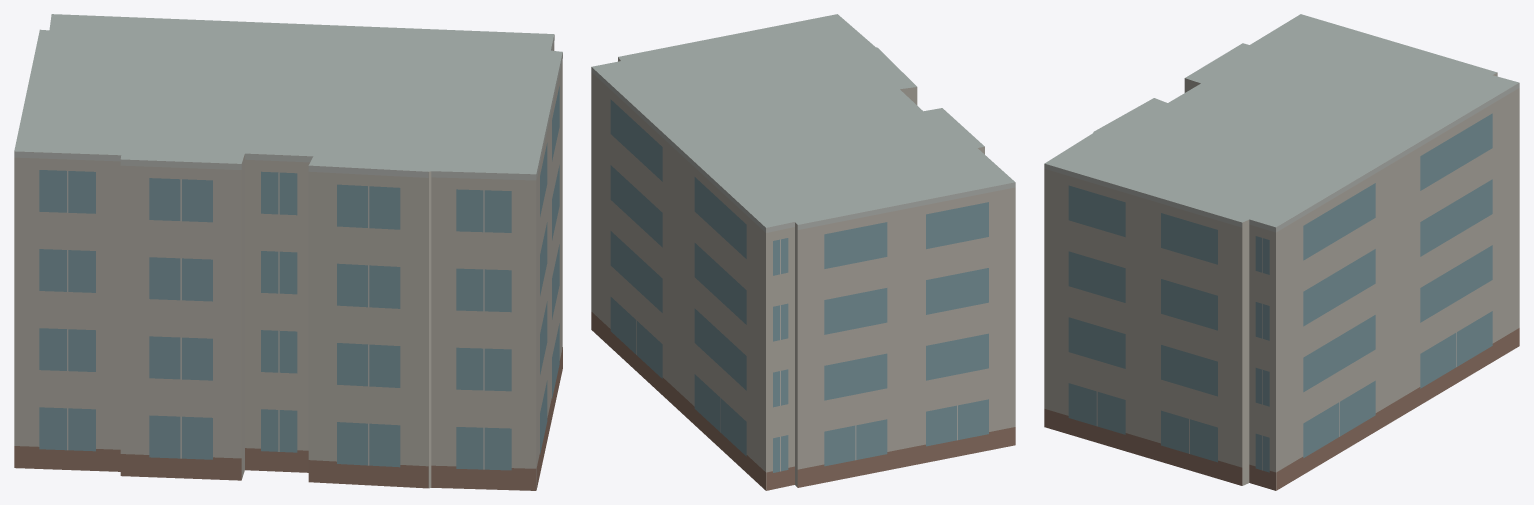
File: survey-upis-33028757.glb
3 renders of one model, left to right at view 1: azimuth 30°, elevation 25°; view 2: azimuth 150°, elevation 25°; view 3: azimuth 270°, elevation 25°, orthographic. The views are drawn at different scales.
Visible parts, largest first — view 1: survey-upis-33028757.tmp; view 2: survey-upis-33028757.tmp; view 3: survey-upis-33028757.tmp.
Part boxes in pixels (x1=…): survey-upis-33028757.tmp: x1=14, y1=14, x2=562, y2=490; survey-upis-33028757.tmp: x1=591, y1=14, x2=1015, y2=490; survey-upis-33028757.tmp: x1=1044, y1=14, x2=1519, y2=490.
Bounding box in the file's own units: 21.72 × 12.5 × 20.44.
